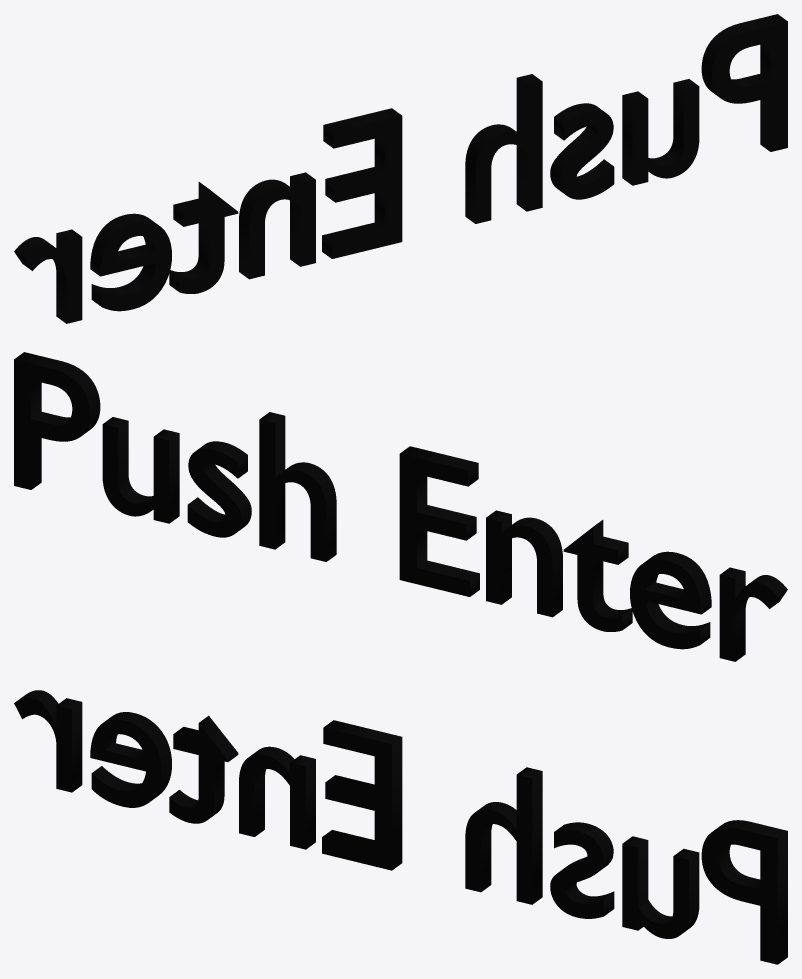
Rendered from Enter.obj.
3 renders of one model, top to bottom at view 1: azimuth 30°, elevation 25°; view 2: azimuth 150°, elevation 25°; view 3: azimuth 330°, elevation 25°, orthographic.
Visible parts, largest first — view 1: テキスト; view 2: テキスト; view 3: テキスト.
Part boxes in pixels (left/top/right/bottom): テキスト: left=14, top=14, right=787, bottom=323; テキスト: left=14, top=352, right=787, bottom=661; テキスト: left=14, top=690, right=787, bottom=964.
Bounding box in the file's own units: 36.72 × 5.88 × 0.8516.
1 material, 1 textured.
